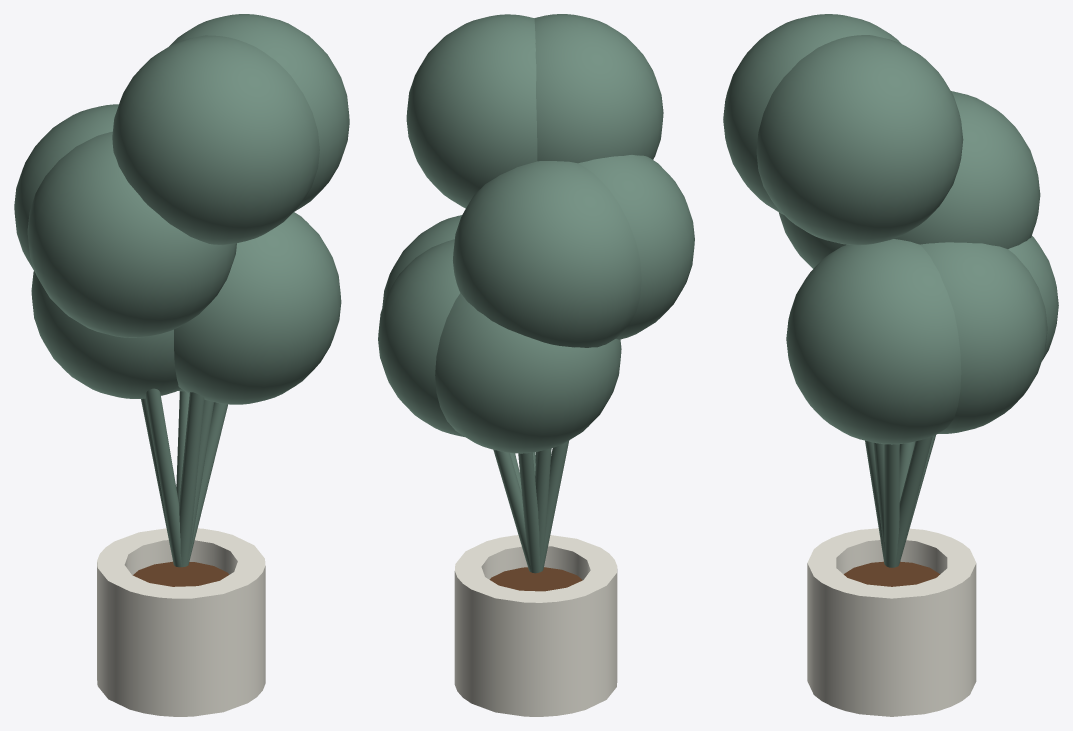
File: living-succulent-planter.gltf
3 views of the same model, side by side, from view 1: azimuth 30°, elevation 25°; view 2: azimuth 150°, elevation 25°; view 3: azimuth 270°, elevation 25° (orthographic). The views are drawn at different scales.
Visible parts, largest first — view 1: Coffee table succulent leaf 2, Coffee table succulent, Coffee table succulent leaf 4, Coffee table succulent leaf 0, Coffee table succulent leaf 6, Coffee table succulent leaf 5, Coffee table succulent leaf 1, Coffee table succulent stem 4, Coffee table succulent stem 2, Coffee table succulent soil, Coffee table succulent stem 0, Coffee table succulent stem 5 (+1 smaller); view 2: Coffee table succulent leaf 1, Coffee table succulent, Coffee table succulent leaf 5, Coffee table succulent leaf 6, Coffee table succulent leaf 2, Coffee table succulent leaf 4, Coffee table succulent leaf 3, Coffee table succulent stem 6, Coffee table succulent soil, Coffee table succulent leaf 0, Coffee table succulent stem 3, Coffee table succulent stem 1 (+1 smaller); view 3: Coffee table succulent leaf 5, Coffee table succulent leaf 0, Coffee table succulent, Coffee table succulent leaf 3, Coffee table succulent leaf 1, Coffee table succulent leaf 2, Coffee table succulent leaf 6, Coffee table succulent stem 0, Coffee table succulent soil, Coffee table succulent stem 3, Coffee table succulent leaf 4, Coffee table succulent stem 5 (+1 smaller).
Boxes of the visible parts, x1,y1,x2,y2 form: Coffee table succulent leaf 2: (112,35,319,245); Coffee table succulent: (97,528,265,716); Coffee table succulent leaf 4: (27,131,236,337); Coffee table succulent leaf 0: (174,212,341,404); Coffee table succulent leaf 6: (31,271,180,398); Coffee table succulent leaf 5: (169,14,349,211); Coffee table succulent leaf 1: (14,104,118,272); Coffee table succulent stem 4: (145,388,181,567); Coffee table succulent stem 2: (179,392,204,567); Coffee table succulent soil: (133,561,229,586); Coffee table succulent stem 0: (187,402,227,565); Coffee table succulent stem 5: (187,399,214,562); Coffee table succulent leaf 1: (453,161,641,347); Coffee table succulent: (454,535,617,716); Coffee table succulent leaf 5: (406,14,537,208); Coffee table succulent leaf 6: (435,293,621,453); Coffee table succulent leaf 2: (534,14,663,163); Coffee table succulent leaf 4: (578,155,694,339); Coffee table succulent leaf 3: (378,239,464,436); Coffee table succulent stem 6: (518,452,540,573); Coffee table succulent soil: (489,567,582,591); Coffee table succulent leaf 0: (382,215,461,307); Coffee table succulent stem 3: (493,449,531,571); Coffee table succulent stem 1: (535,448,551,572); Coffee table succulent leaf 5: (756,35,963,245); Coffee table succulent leaf 0: (786,239,961,444); Coffee table succulent: (807,528,976,716); Coffee table succulent leaf 3: (920,242,1047,433); Coffee table succulent leaf 1: (894,91,1040,248); Coffee table succulent leaf 2: (723,14,901,214); Coffee table succulent leaf 6: (1008,236,1058,360); Coffee table succulent stem 0: (884,444,899,567); Coffee table succulent soil: (843,561,939,586); Coffee table succulent stem 3: (894,436,932,567); Coffee table succulent leaf 4: (779,212,846,268); Coffee table succulent stem 5: (873,442,884,560).
Bounding box in the file's own units: 0.2194 × 0.4737 × 0.2185.
